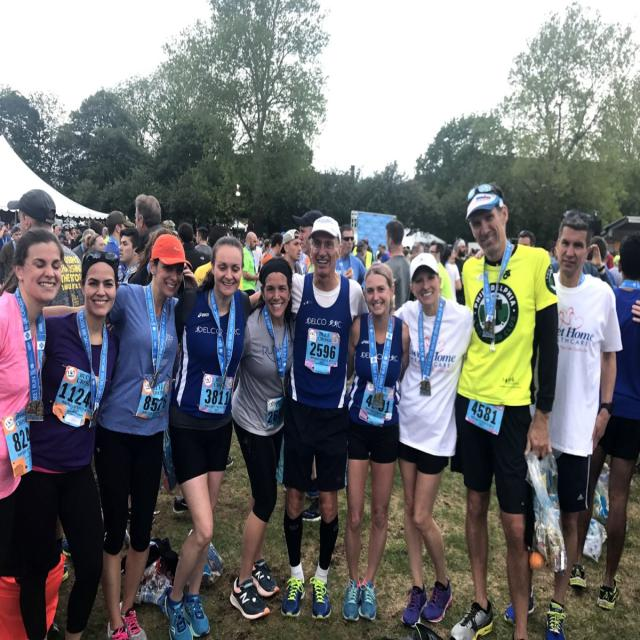body: (40, 232, 195, 640), (0, 210, 629, 293), (502, 206, 622, 640), (448, 180, 561, 639), (245, 214, 370, 622), (13, 247, 121, 640), (207, 254, 314, 623), (163, 233, 253, 640), (394, 253, 473, 628), (566, 227, 640, 611), (0, 226, 64, 640), (339, 262, 411, 623), (5, 188, 88, 310), (149, 427, 194, 546), (380, 220, 412, 310), (134, 193, 180, 255), (102, 209, 136, 285), (333, 223, 368, 293), (290, 209, 325, 277), (630, 292, 640, 490), (176, 221, 212, 275), (118, 494, 133, 614), (116, 226, 144, 285), (427, 239, 453, 301), (0, 224, 23, 288), (439, 246, 463, 304), (278, 226, 304, 276), (91, 453, 106, 538), (241, 230, 260, 296), (453, 237, 469, 306), (193, 226, 214, 263), (224, 451, 238, 470)
